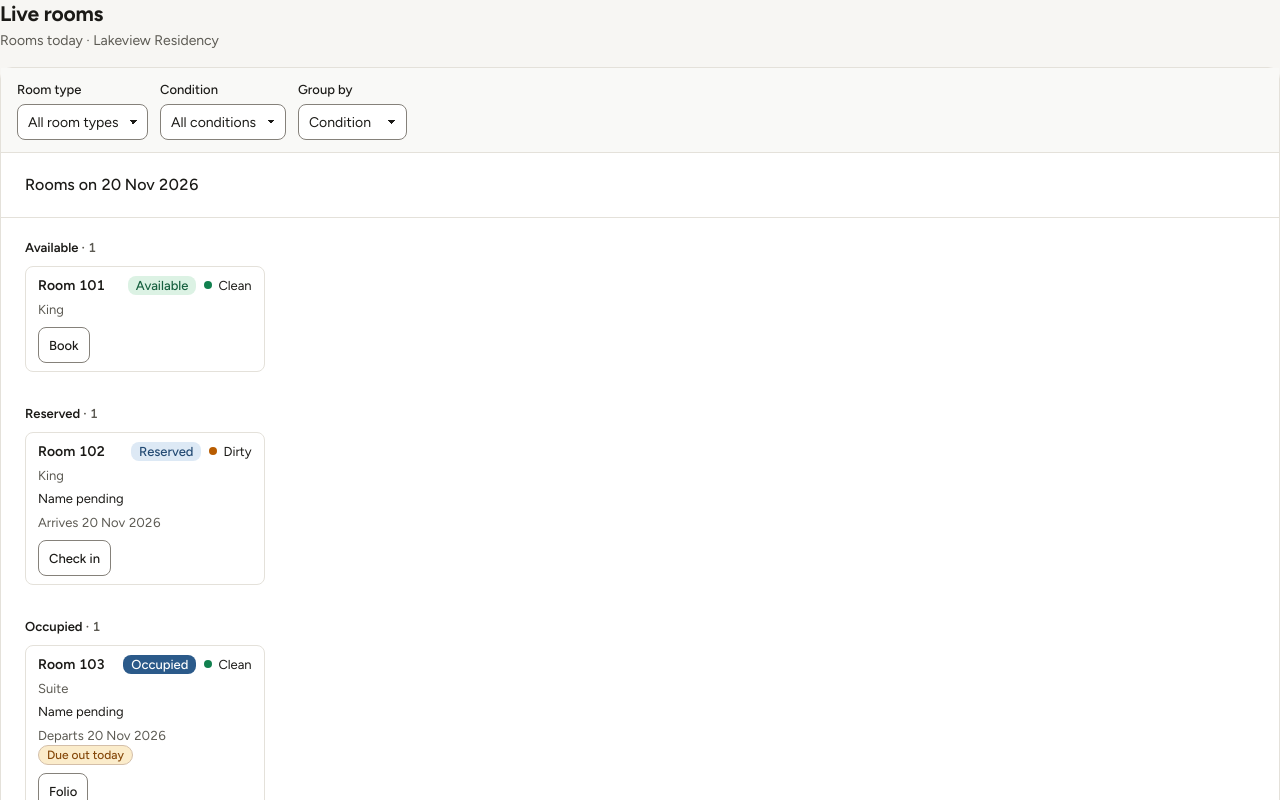
RoomBoardScreen › filters by room type and condition, and regroups by room type
The width and height of the screenshot is (1280, 800).
Expected: the element with test id "live-group-available" is shown, [25,240,265,372]
Select "Suite" in the dropdown with test id "live-filter-type" at [82, 122], box [17,104,148,140]
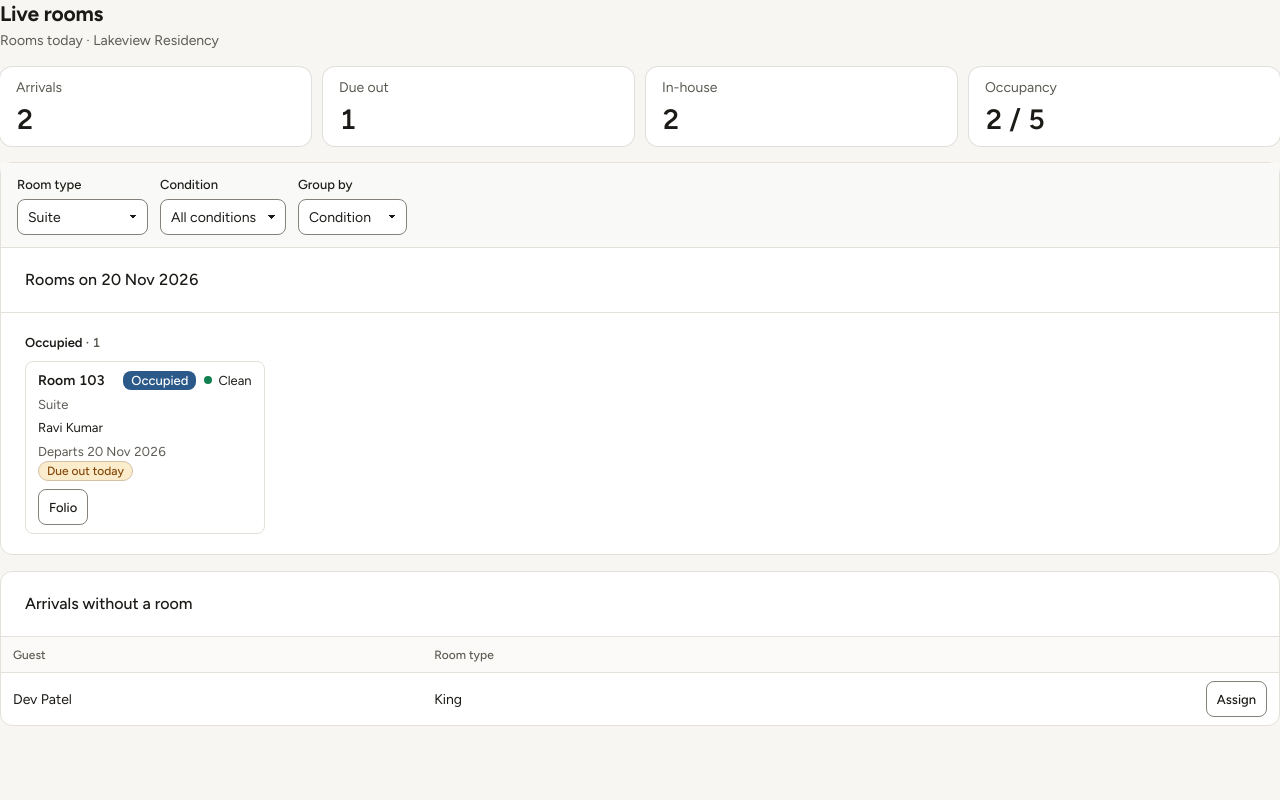
Expected: the list item with test id "live-room" is shown, [25,361,265,534]
Select "All room types" in the dropdown with test id "live-filter-type" at [82, 218], box [17,200,148,236]
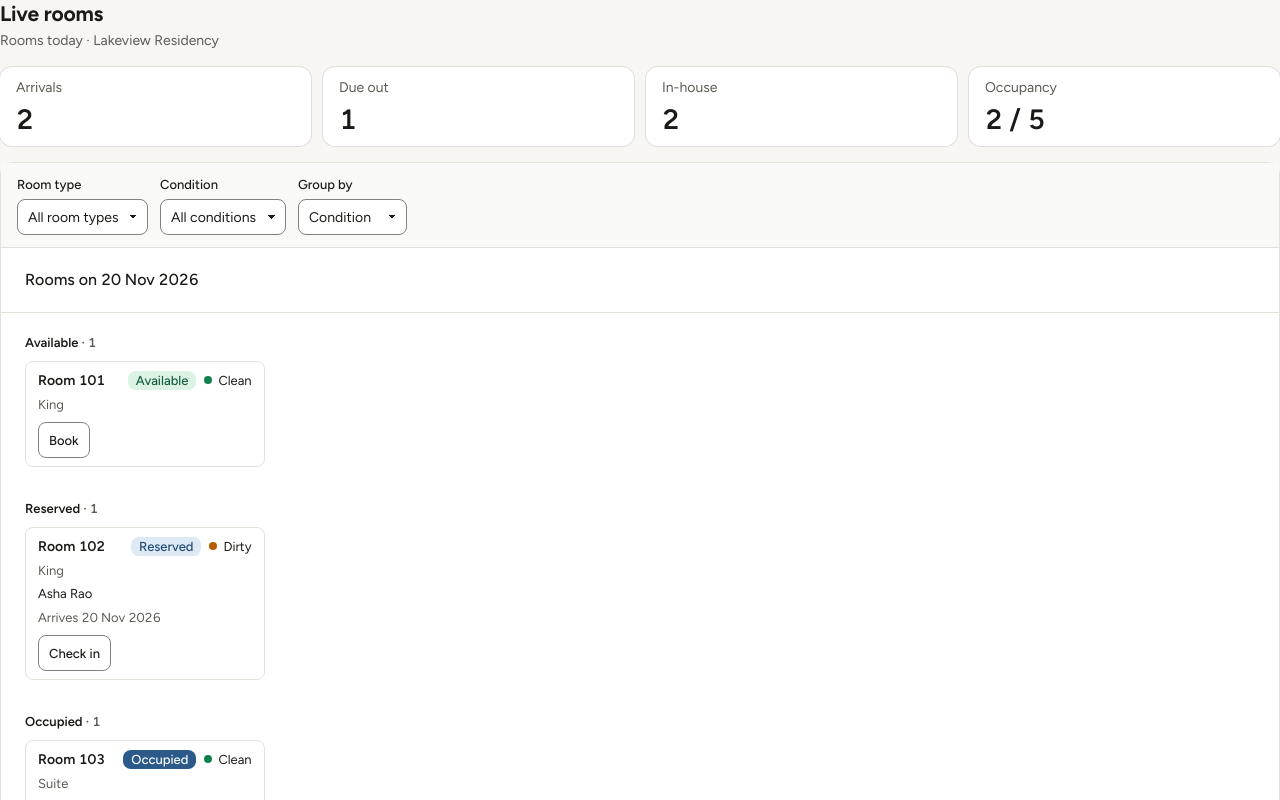
Select "Dirty" in the dropdown with test id "live-filter-condition" at [223, 218], box [160,200,286,236]
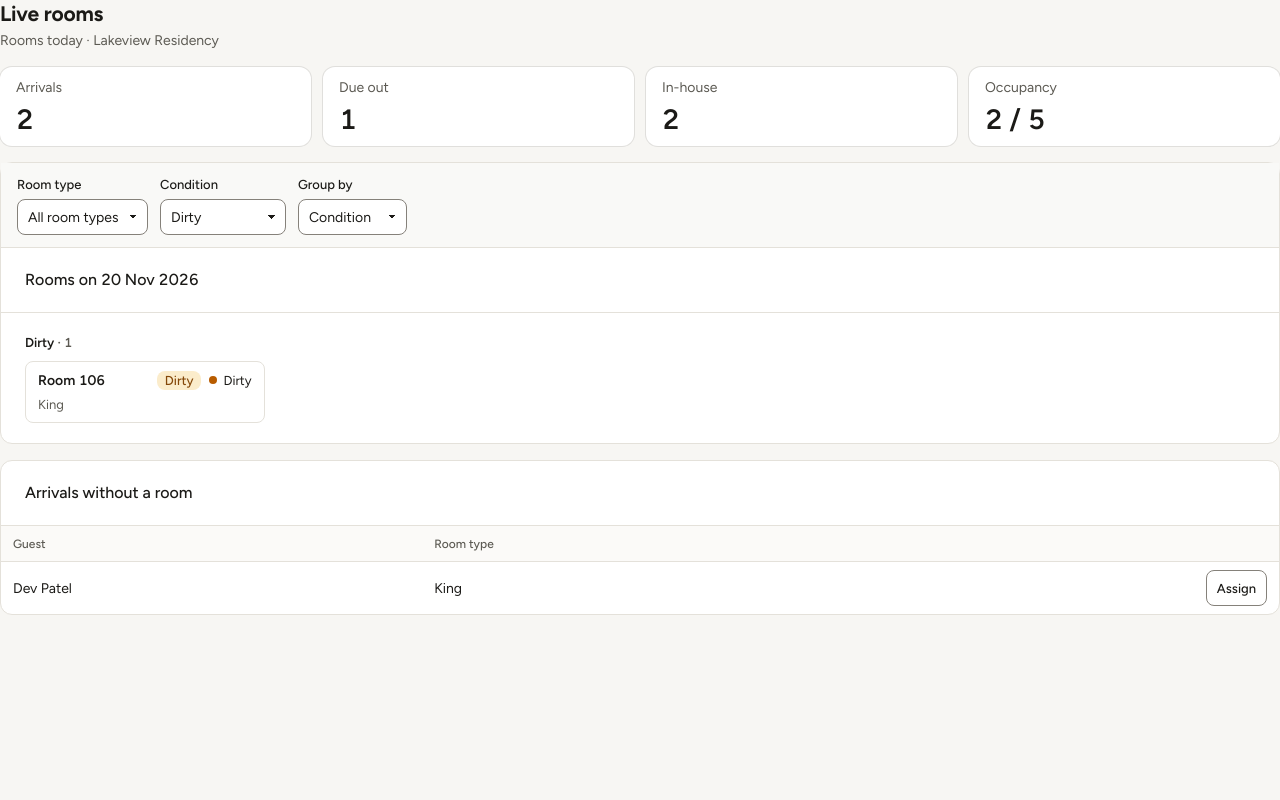
Expected: the list item with test id "live-room" is shown, [25,361,265,424]
Select "All conditions" in the dropdown with test id "live-filter-condition" at [223, 218], box [160,200,286,236]
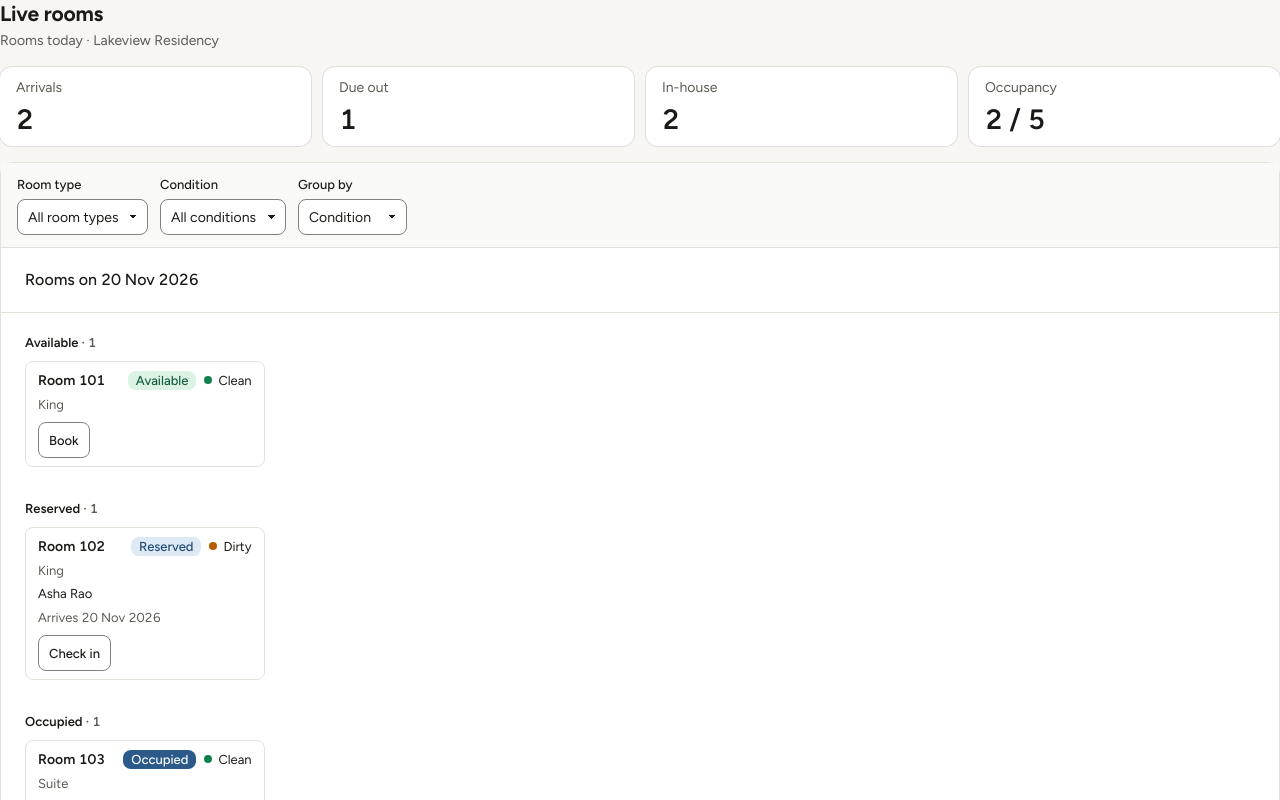
Select "Room type" in the dropdown with test id "live-group-by" at [352, 218], box [298,200,407,236]
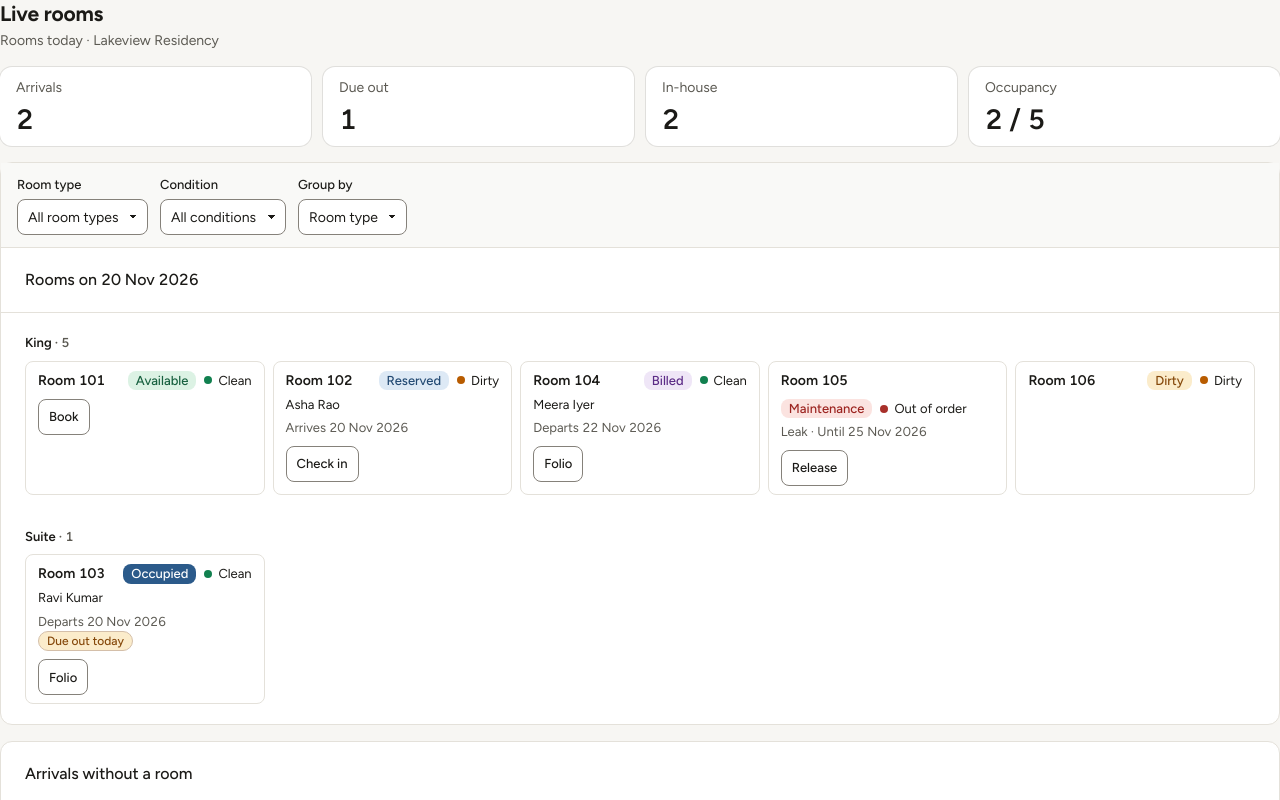
Now the element with test id "live-group-rt_king" is shown, box [25,334,1255,495]
Now the element with test id "live-group-rt_suite" is shown, box [25,529,265,704]
